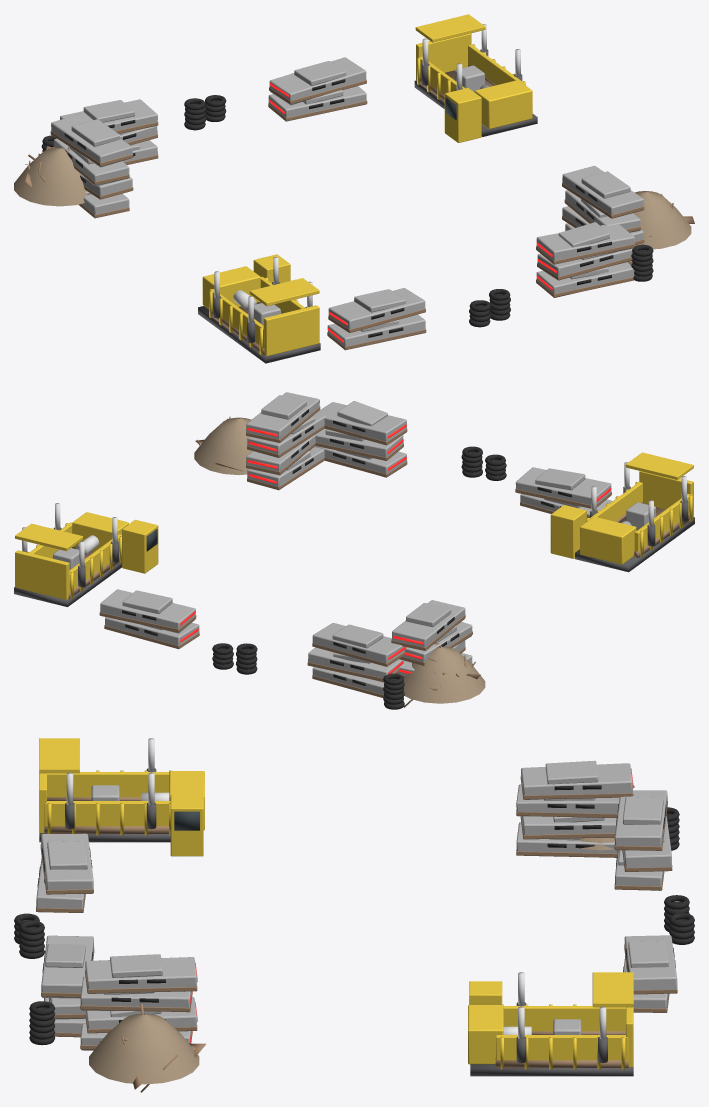
Rendered from hurda_dress.glb.
3 views of the same model, one above another, from view 1: azimuth 30°, elevation 25°; view 2: azimuth 150°, elevation 25°; view 3: azimuth 270°, elevation 25° (orthographic). The views are drawn at different scales.
Parts seen in each view (by area): view 1: chunk_-1_-1, chunk_0_0, chunk_0_-1, chunk_-1_0; view 2: chunk_-1_-1, chunk_-1_0, chunk_0_0, chunk_0_-1; view 3: chunk_0_-1, chunk_-1_-1, chunk_0_0, chunk_-1_0.
Boxes of the visible parts, x1,y1,x2,y2 form: chunk_-1_-1: [198, 254, 510, 363]; chunk_0_0: [268, 14, 537, 142]; chunk_0_-1: [536, 165, 694, 297]; chunk_-1_0: [14, 95, 226, 218]; chunk_-1_-1: [461, 446, 694, 572]; chunk_-1_0: [212, 600, 485, 709]; chunk_0_0: [14, 503, 199, 649]; chunk_0_-1: [194, 392, 407, 490]; chunk_0_-1: [29, 935, 205, 1092]; chunk_-1_-1: [14, 738, 204, 958]; chunk_0_0: [468, 935, 677, 1076]; chunk_-1_0: [516, 760, 694, 944].
Size of the model in its own units: 26.3 by 3.72 by 26.72.
